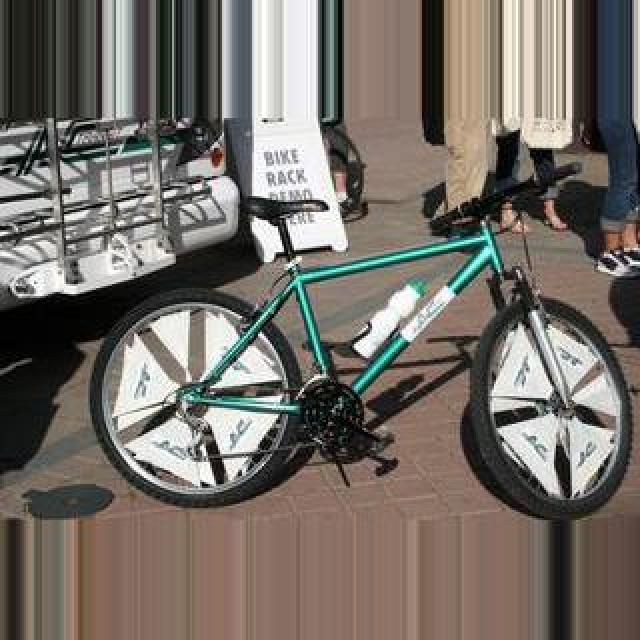Person: (86, 166, 634, 508)
